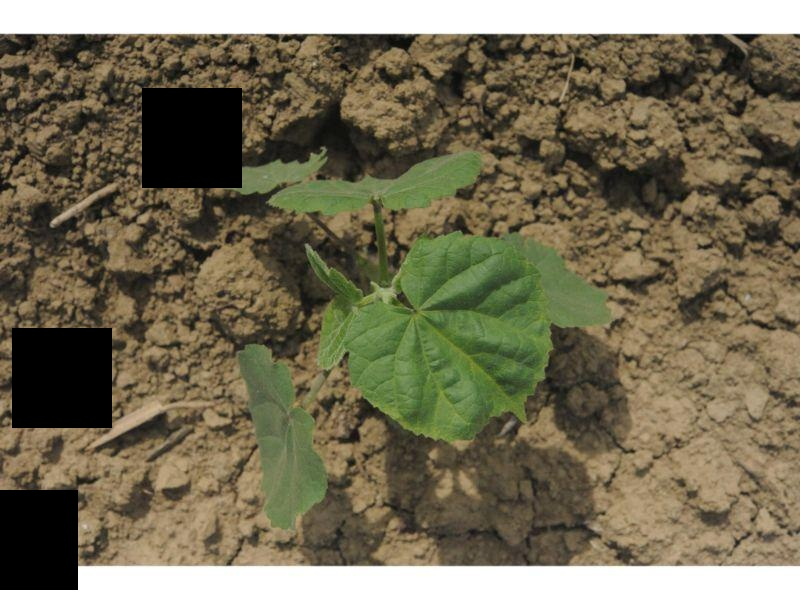velvet: (216, 151, 611, 532)
